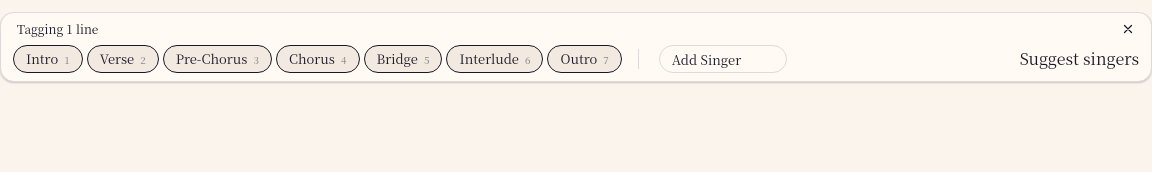
Test: TaggingToolbar suggest singers › is inert with a reason when only section markers are selected
Click the button "Suggest singers": [1079, 59] box [1020,47,1139,71]
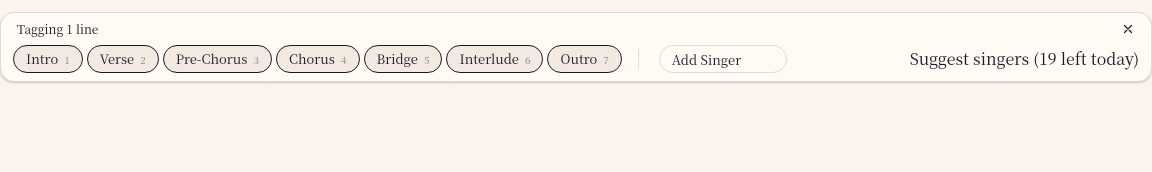
Hover over the button "Suggest singers (19 left today)": [1024, 59] box [910,47,1139,71]
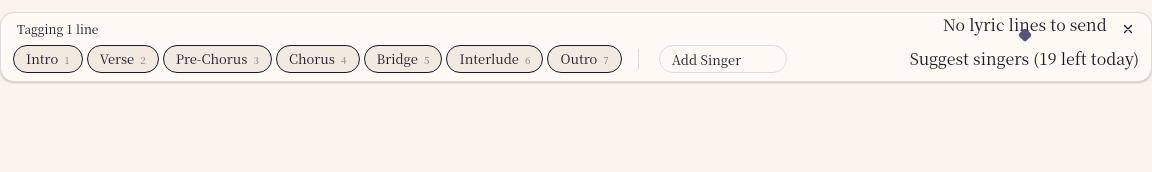
Expected: the tooltip "No lyric lines to send" is shown, [943,13,1107,37]
